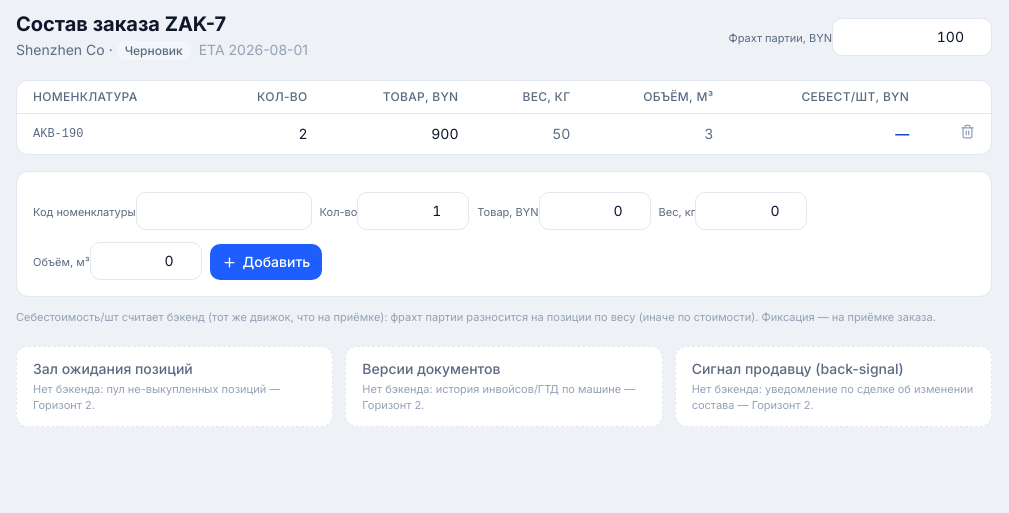
Scenario: ProcurementMachineEditor › удаление позиции зовёт deleteLine и убирает строку из таблицы
Expected: the text "AKB-190" is shown, 17,114 -> 208,154
Click the button named "Удалить позицию" at [968, 132], box 960,124 -> 975,139
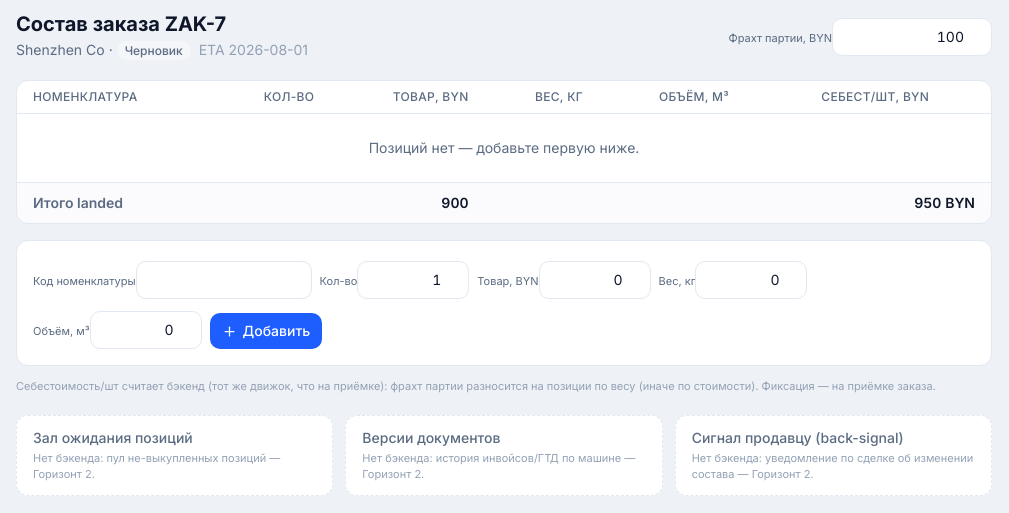
Result: the text "Позиций нет — добавьте первую ниже." is shown at 17,114 -> 991,182
